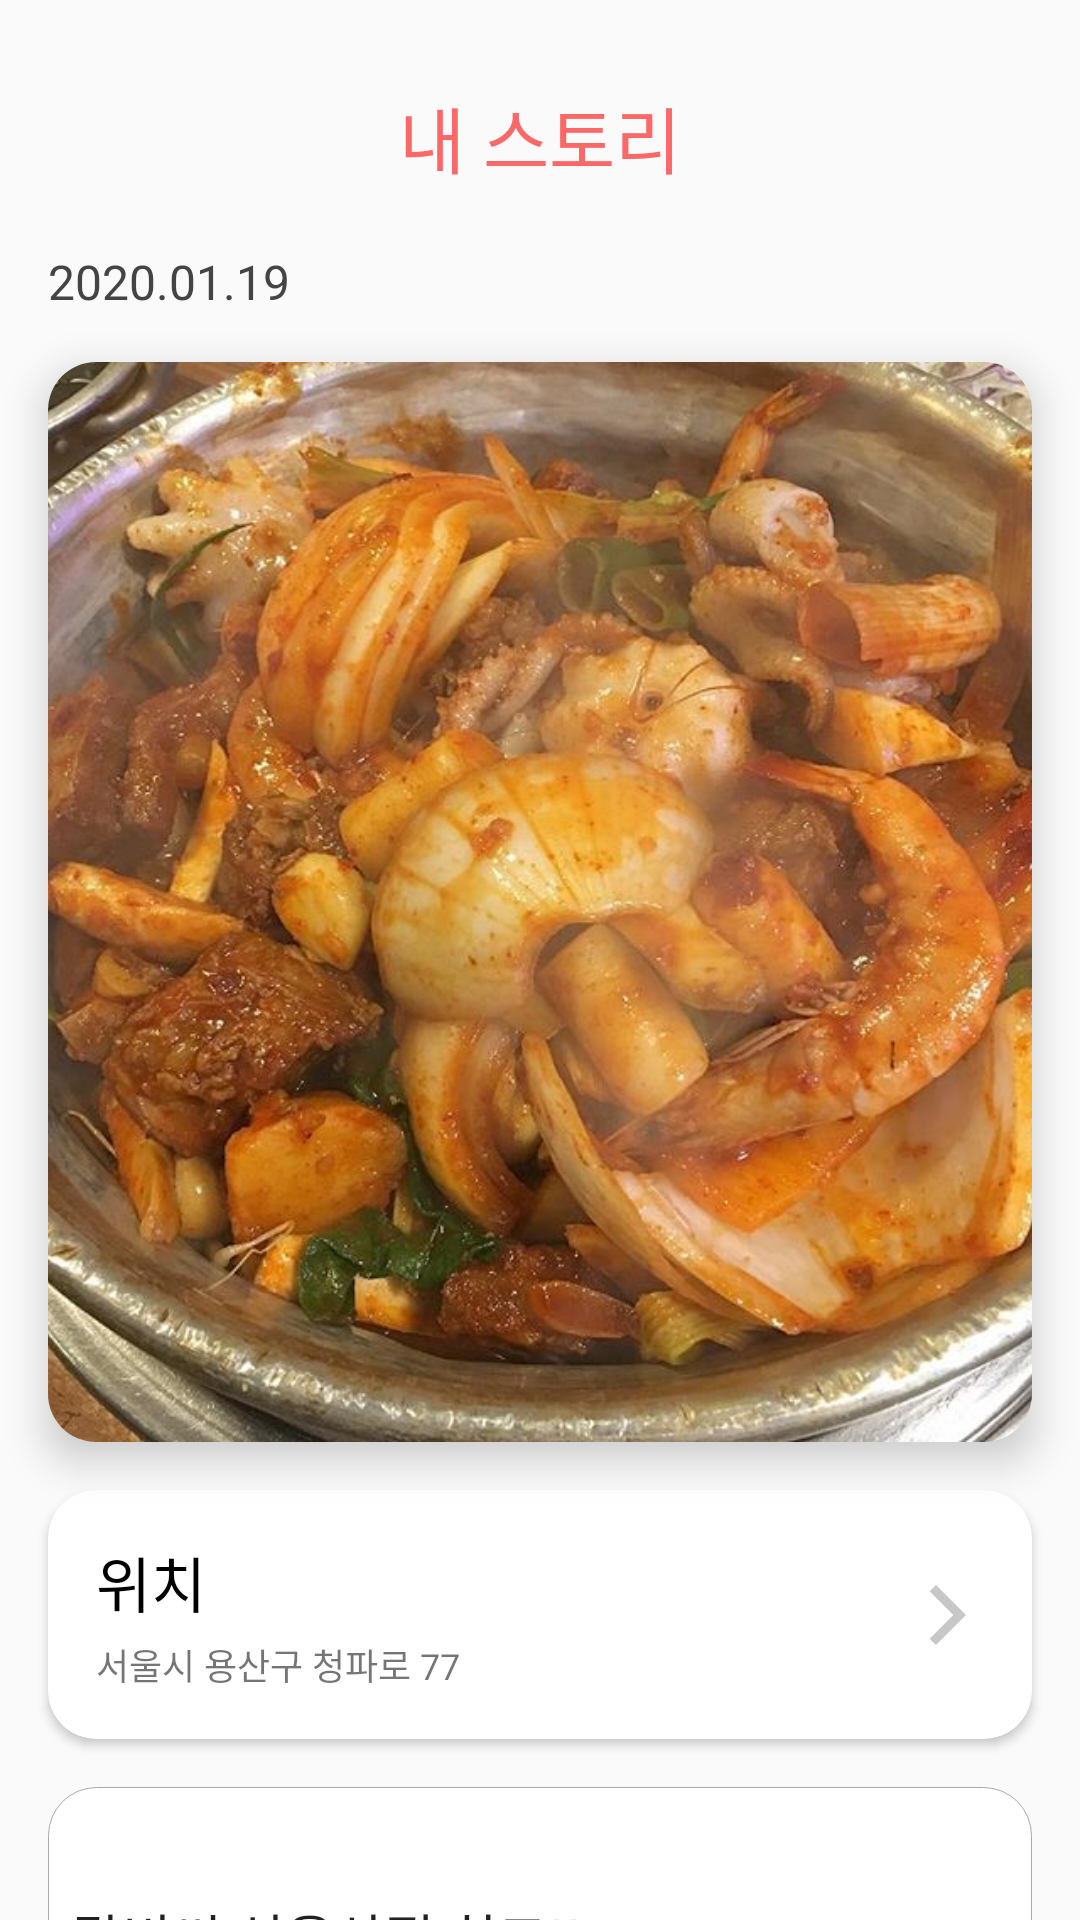

Screen size 1080x1920. Icon name, then its box in pixels as (x1, y1, x2, y2):
arrow forward: (930, 1585, 966, 1645)
